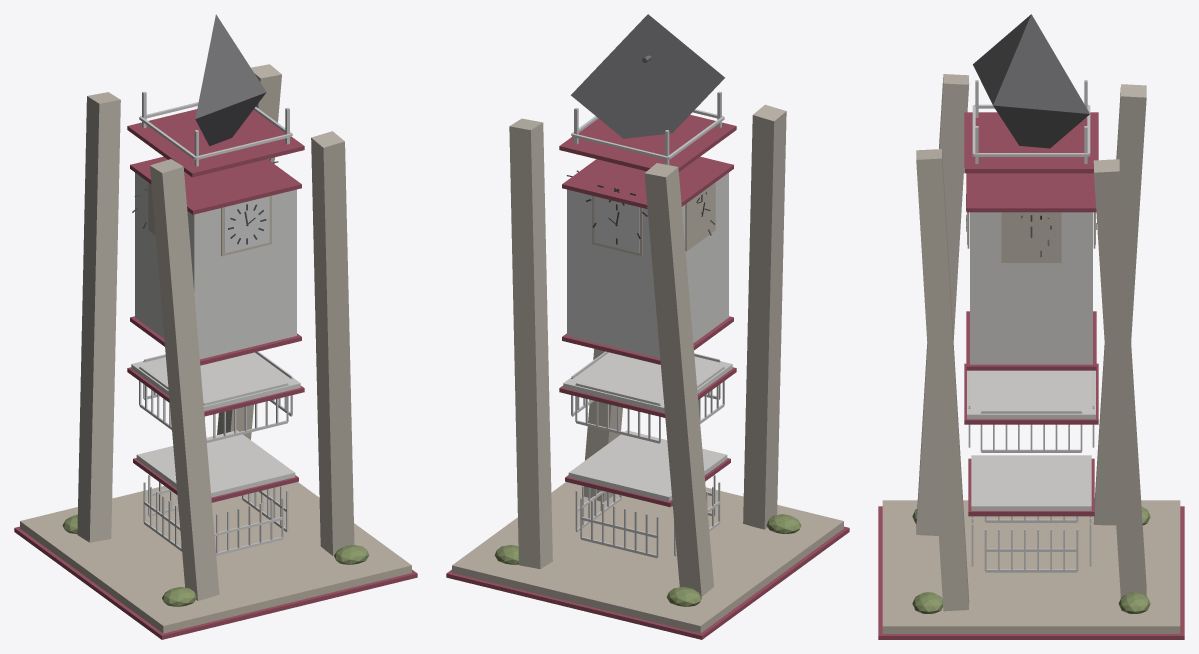
File: reloj_monumento_ar.glb
The picture shows the model from 3 angles, left to right: view 1: azimuth 30°, elevation 25°; view 2: azimuth 150°, elevation 25°; view 3: azimuth 270°, elevation 25°; orthographic projection. The views are drawn at different scales.
Parts seen in each view (by area): view 1: base, shaft, pillar0, pillar2, pillar3, top_trim, roof, lower_plat, shaft_trim_high, mid_plat, base_trim, clock_face0 (+4 smaller); view 2: base, pillar1, shaft, pillar0, pillar2, roof, lower_plat, top_trim, mid_plat, shaft_trim_high, base_trim, clock_face2 (+5 smaller); view 3: base, shaft, pillar3, pillar1, roof, lower_plat, pillar2, pillar0, mid_plat, top_trim, shaft_trim_high, base_trim (+7 smaller).
Part boxes in pixels (bbox=[...]): base: bbox=[20, 482, 411, 633]; shaft: bbox=[135, 173, 296, 359]; pillar0: bbox=[77, 92, 120, 542]; pillar2: bbox=[150, 159, 219, 600]; pillar3: bbox=[311, 131, 354, 555]; top_trim: bbox=[127, 109, 304, 177]; roof: bbox=[195, 14, 266, 146]; lower_plat: bbox=[136, 430, 295, 497]; shaft_trim_high: bbox=[130, 156, 301, 214]; mid_plat: bbox=[131, 352, 300, 411]; base_trim: bbox=[14, 526, 417, 639]; clock_face0: bbox=[224, 196, 269, 253]; base: bbox=[452, 482, 843, 633]; pillar1: bbox=[509, 118, 552, 569]; shaft: bbox=[567, 173, 728, 358]; pillar0: bbox=[644, 163, 713, 596]; pillar2: bbox=[743, 104, 786, 529]; roof: bbox=[571, 14, 724, 138]; lower_plat: bbox=[568, 430, 727, 501]; top_trim: bbox=[559, 114, 736, 171]; mid_plat: bbox=[563, 352, 732, 412]; shaft_trim_high: bbox=[562, 156, 733, 208]; base_trim: bbox=[446, 526, 849, 639]; clock_face2: bbox=[594, 196, 639, 253]; base: bbox=[882, 500, 1180, 633]; shaft: bbox=[970, 212, 1092, 364]; pillar3: bbox=[916, 149, 969, 611]; pillar1: bbox=[1093, 159, 1146, 597]; roof: bbox=[973, 14, 1089, 148]; lower_plat: bbox=[971, 455, 1091, 510]; pillar2: bbox=[916, 74, 969, 535]; pillar0: bbox=[1093, 84, 1146, 525]; mid_plat: bbox=[967, 370, 1095, 419]; top_trim: bbox=[964, 112, 1098, 173]; shaft_trim_high: bbox=[966, 173, 1096, 212]; base_trim: bbox=[878, 506, 1184, 639].
Size of the model in its own units: 0.8908 by 1.8 by 0.8908.
